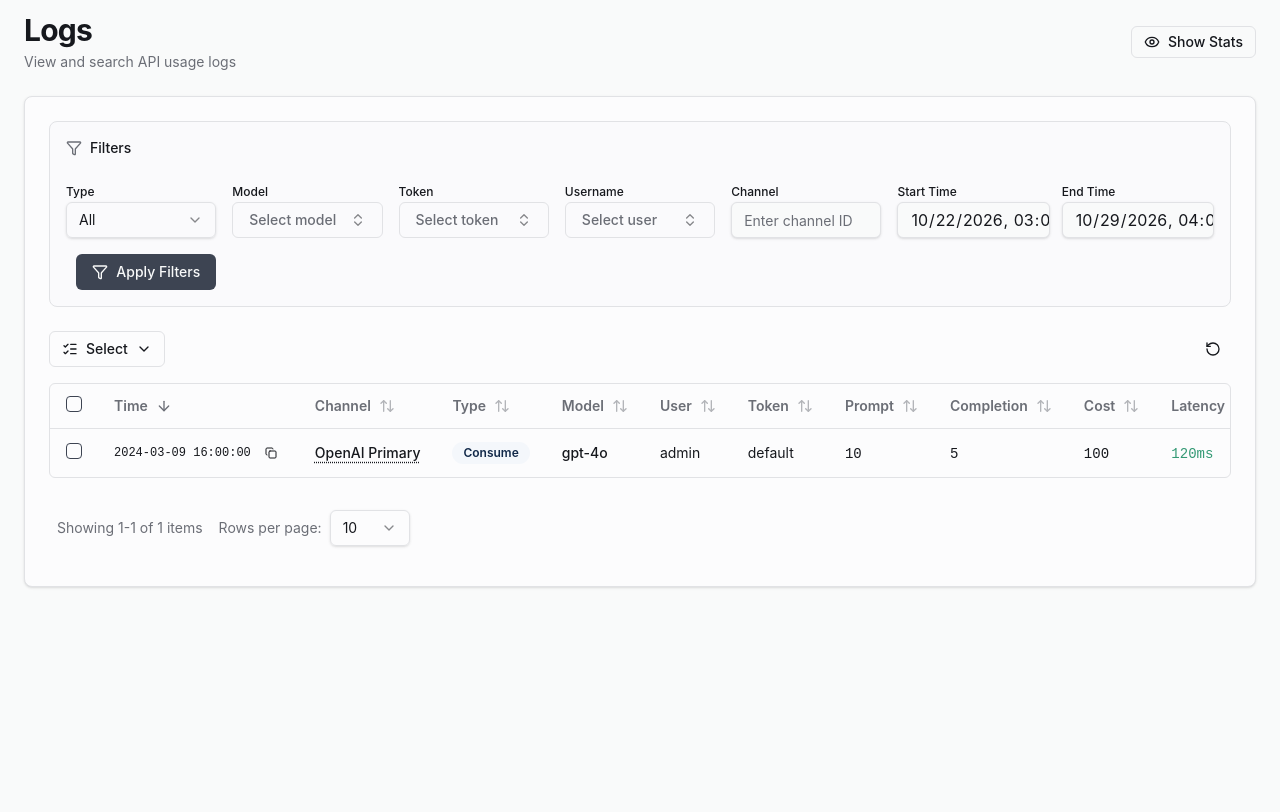
Test case: LogsPage action feedback › shows channel names and reveals channel UUIDs from the channel column
Click the button "OpenAI Primary" at (368, 453), box [315, 443, 420, 463]
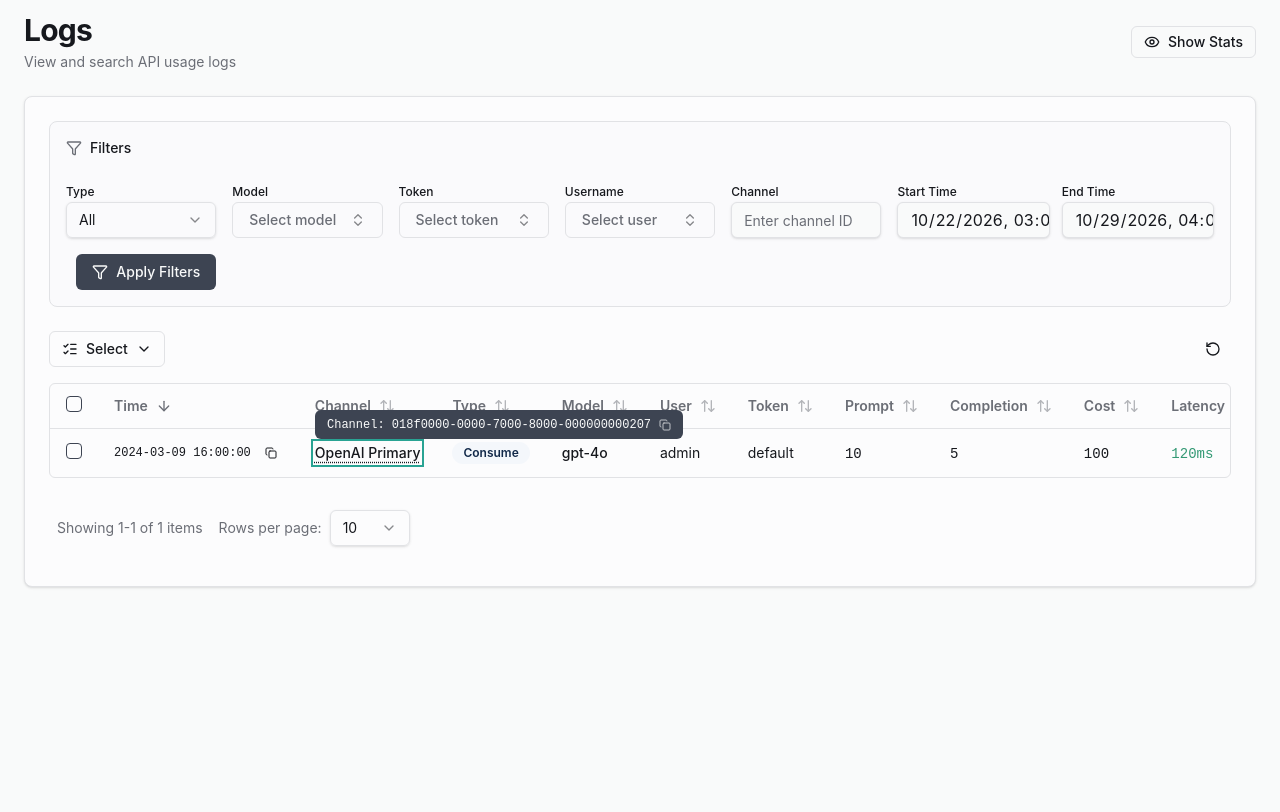
Check: the text "Channel: 018f0000-0000-7000-8000-000000000207" is shown, box [327, 417, 651, 433]
